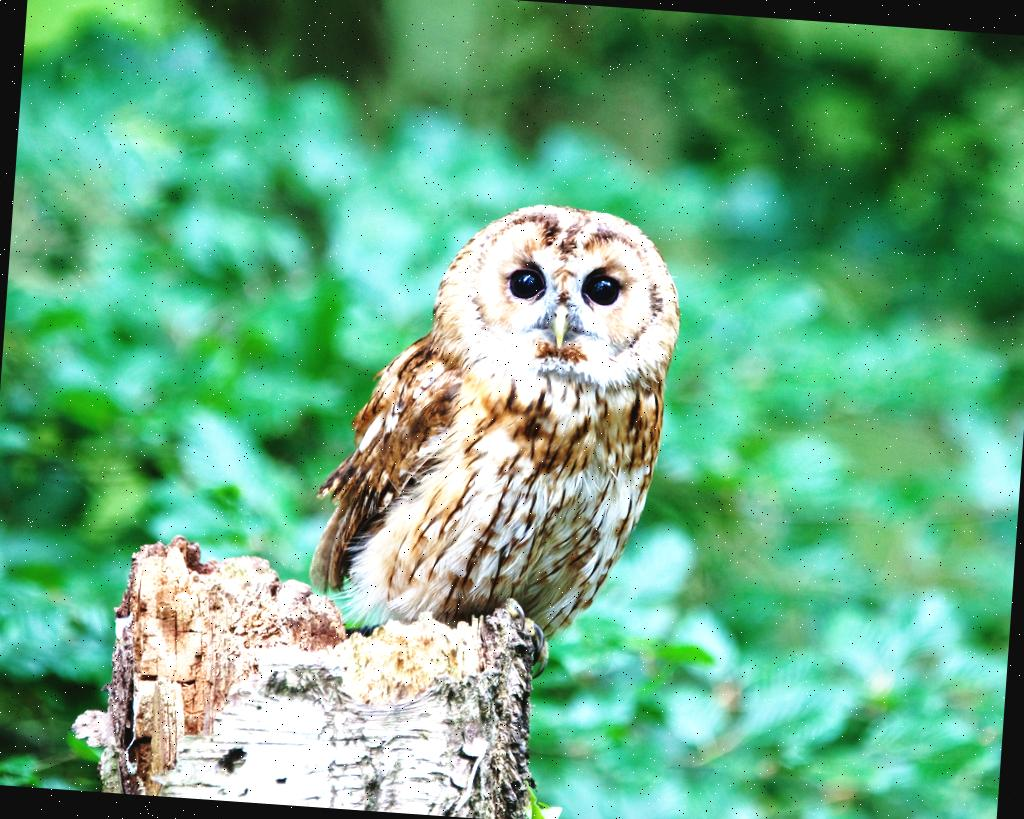Owl: (304, 188, 688, 689)
